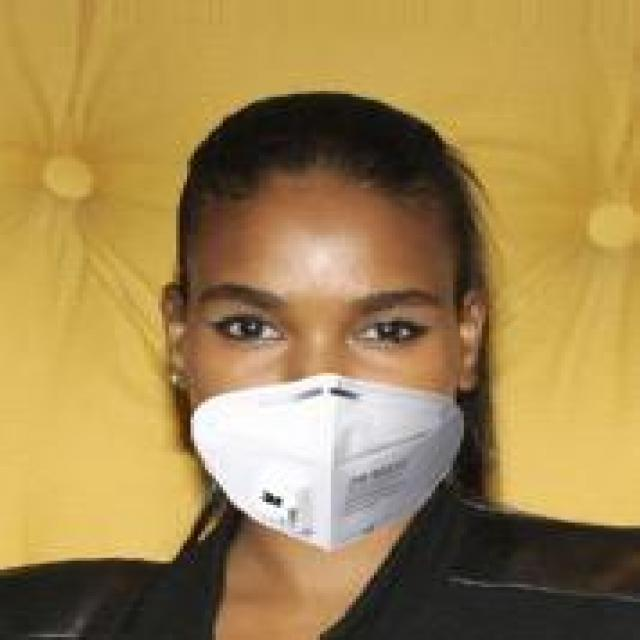mask: (87, 70, 540, 555)
